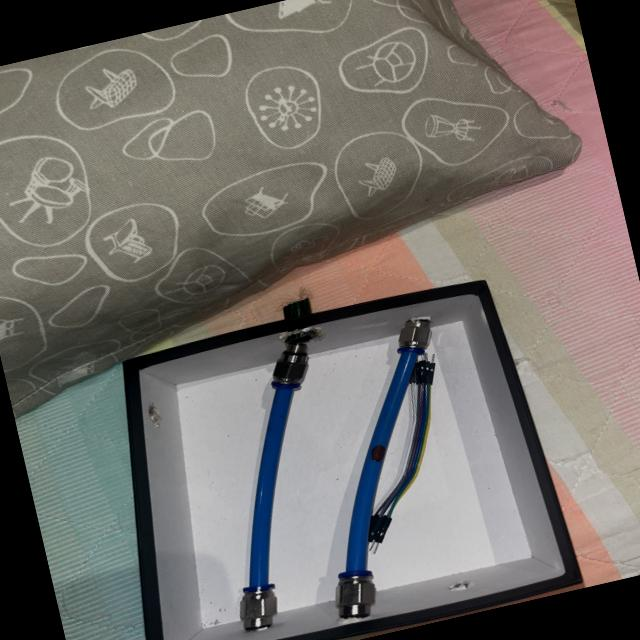hose_damage: (370, 444, 386, 462)
